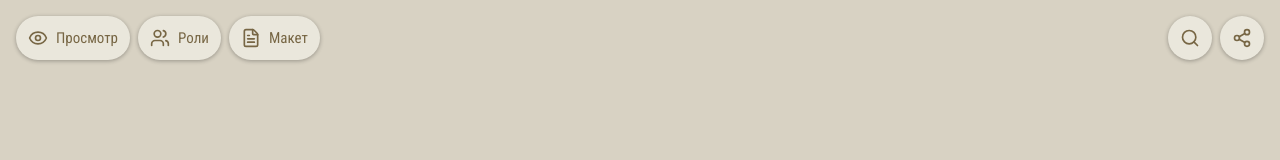
FloatingToolbar › не находит служебные записи без команды
Click the button named "Поиск" at coordinates (1190, 38), box x1=1168 y1=16 x2=1212 y2=60
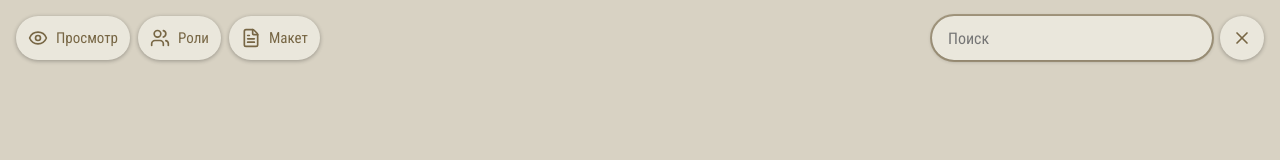
Type "закат" into the search field at coordinates (1072, 38), box x1=932 y1=16 x2=1212 y2=60
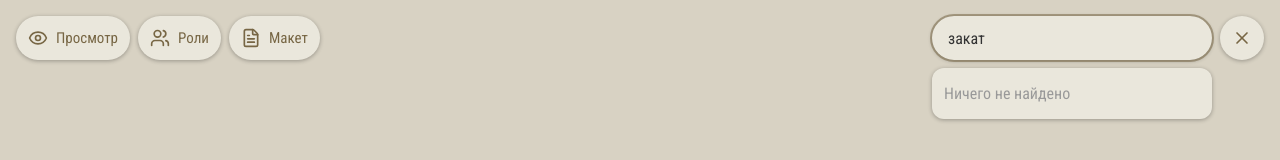
expect the list item "Ничего не найдено" is shown: met, box x1=944 y1=84 x2=1070 y2=103
